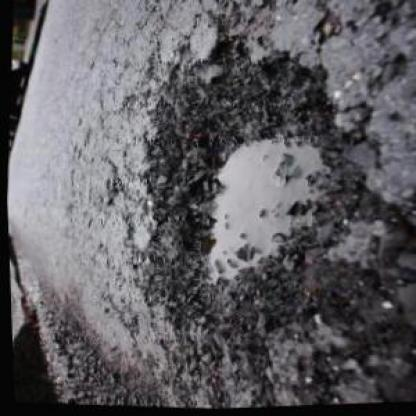pothole: (122, 36, 367, 348)
